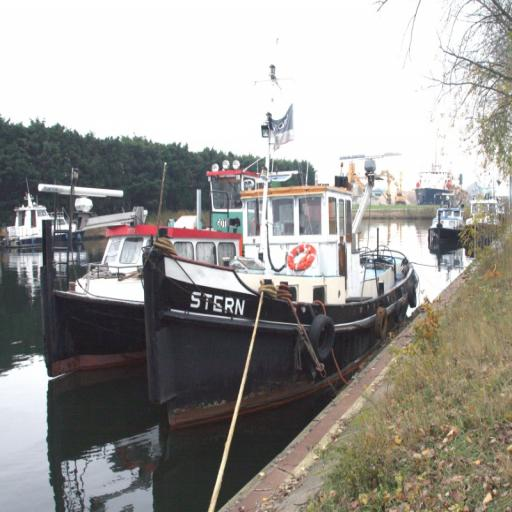tugboat: (140, 37, 421, 441)
